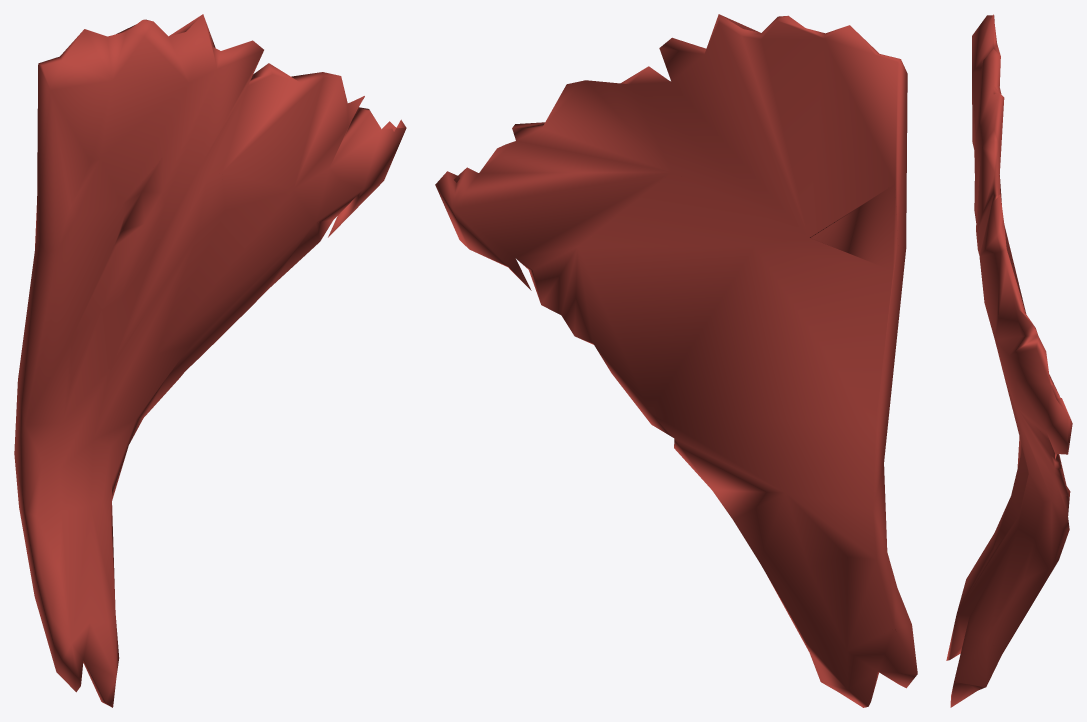
The model's file is musculos-procerus-muscle-l.glb.
3 renders of one model, left to right at view 1: azimuth 30°, elevation 25°; view 2: azimuth 150°, elevation 25°; view 3: azimuth 270°, elevation 25°, orthographic. The views are drawn at different scales.
Parts seen in each view (by area): view 1: Procerus muscle.l; view 2: Procerus muscle.l; view 3: Procerus muscle.l.
Boxes of the visible parts, x1,y1,x2,y2 form: Procerus muscle.l: (14, 14, 406, 707); Procerus muscle.l: (435, 14, 917, 707); Procerus muscle.l: (946, 14, 1072, 707).
Size of the model in its own units: 0.0232 by 0.0365 by 0.00606.
